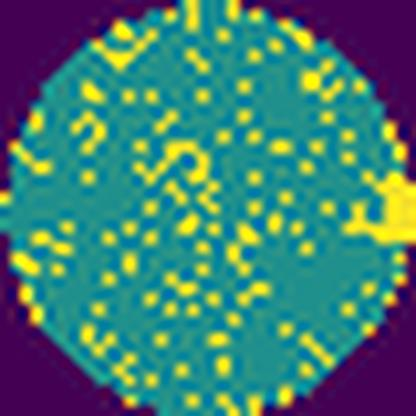Edge-Loc: (339, 165, 416, 247)
